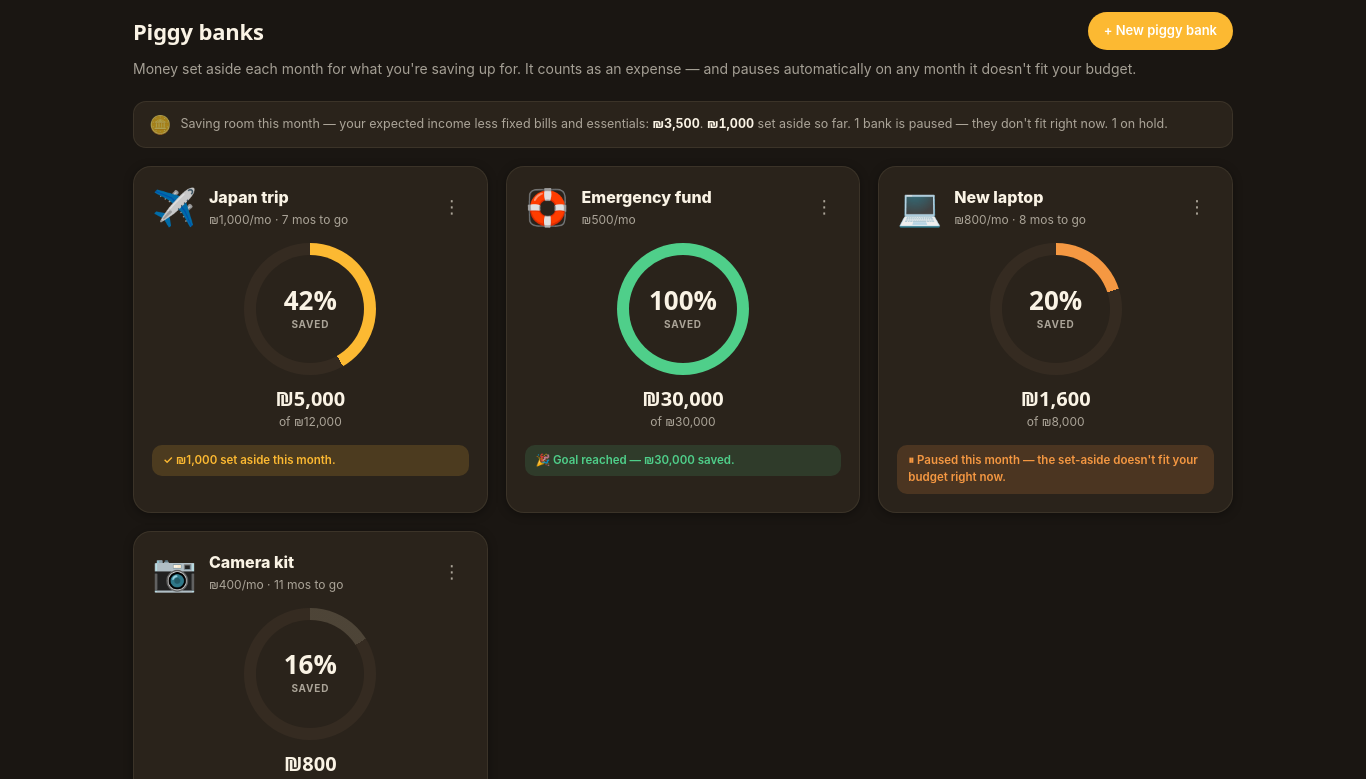
Test: PiggyView — CRUD › shows a per-card actions menu with Edit / Pause / Delete
This screenshot has width=1366, height=779.
Click the button named "actions". click: coordinates (452, 207)
box: top-left (435, 194), bottom-right (469, 220)
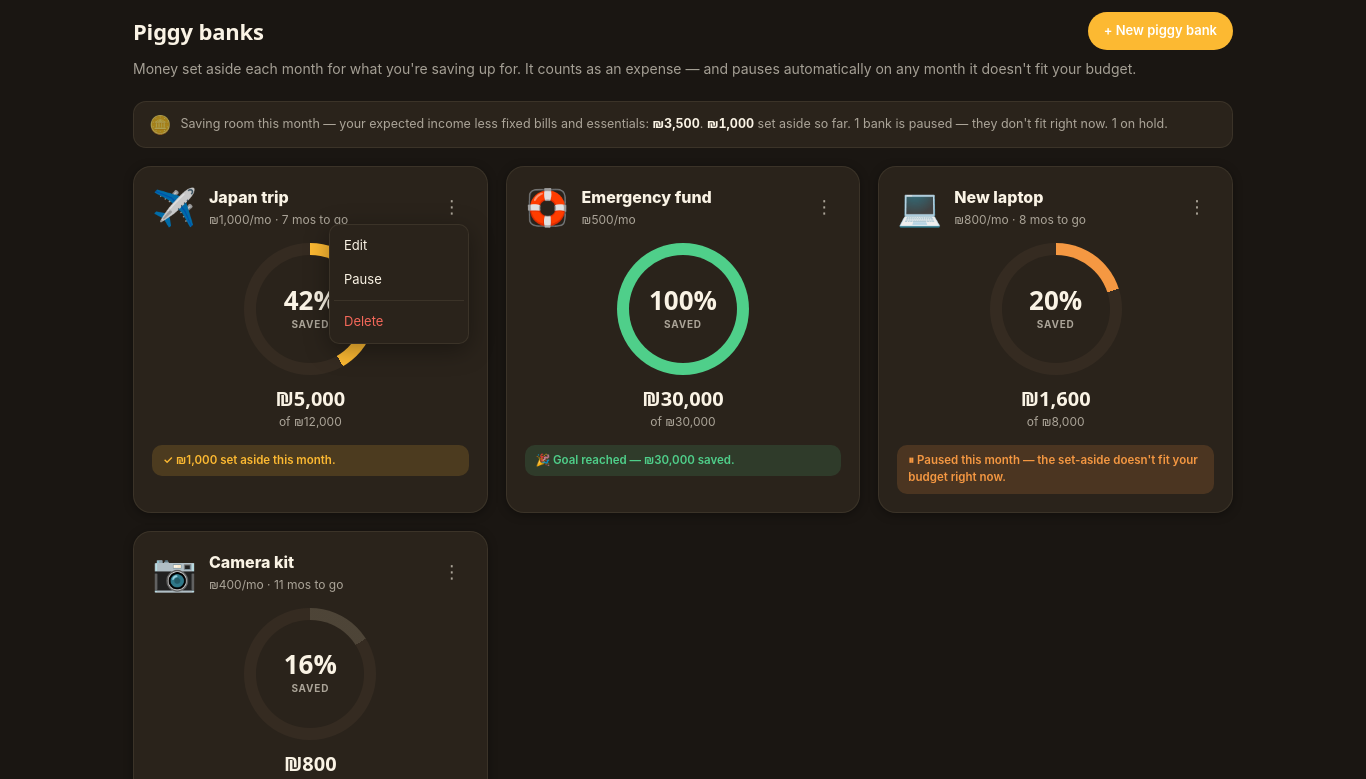
Result: the menu item "Edit" is shown at top-left (344, 237), bottom-right (367, 253)
Result: the menu item "Pause" is shown at top-left (344, 270), bottom-right (382, 286)
Result: the menu item "Delete" is shown at top-left (344, 313), bottom-right (383, 329)
